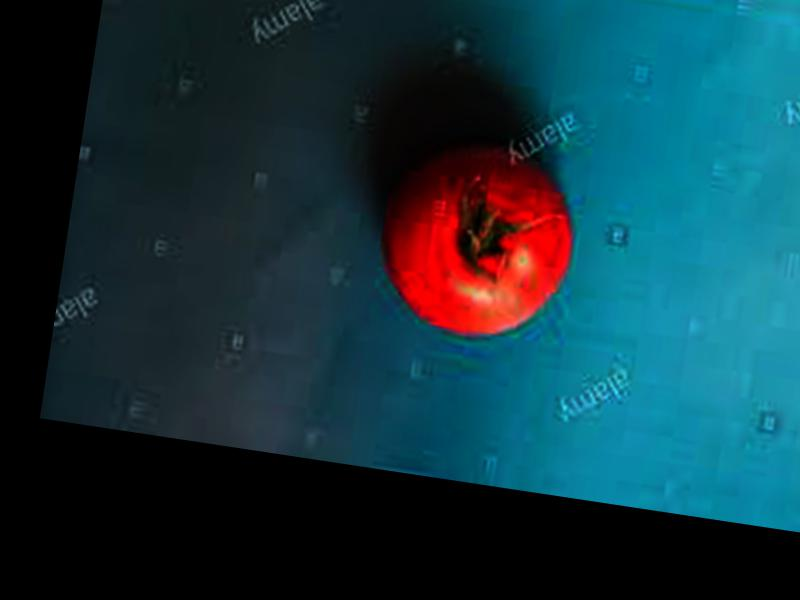Tomato: (371, 130, 584, 349)
